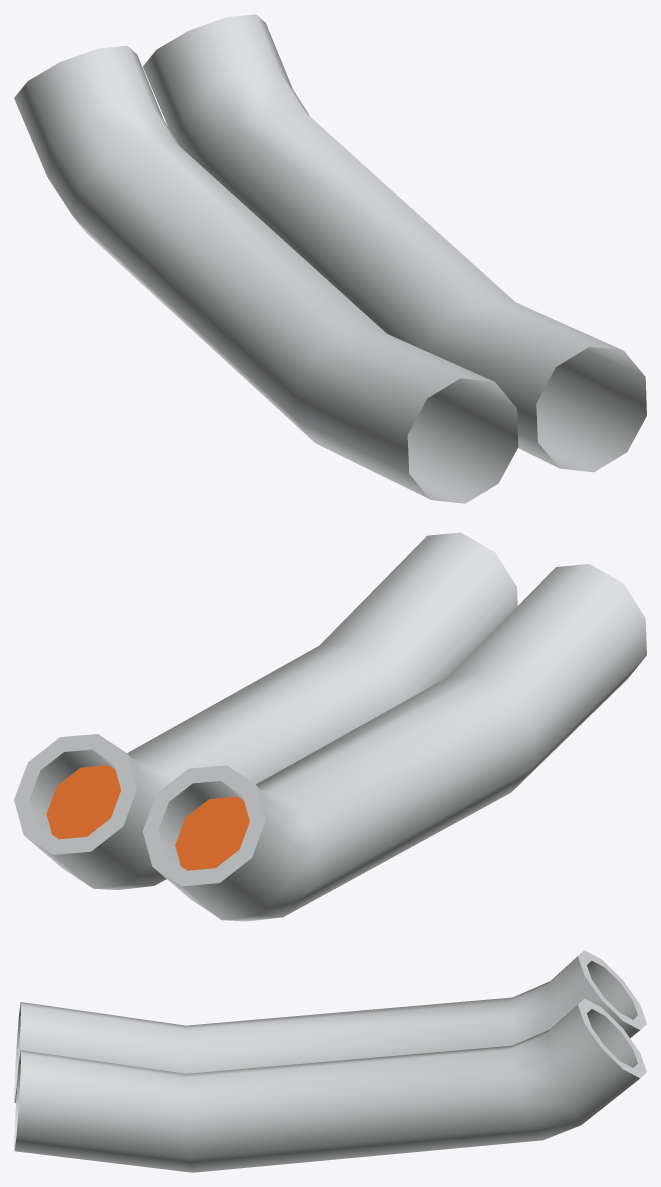
File: Car_09_Pipe_Simple.fbx
3 views of the same model, one above another, from view 1: azimuth 30°, elevation 25°; view 2: azimuth 150°, elevation 25°; view 3: azimuth 270°, elevation 25° (orthographic). The views are drawn at different scales.
Visible parts, largest first — view 1: Car_09_Pipe_Simple; view 2: Car_09_Pipe_Simple; view 3: Car_09_Pipe_Simple.
Part boxes in pixels (x1=…): Car_09_Pipe_Simple: x1=14, y1=14, x2=646, y2=503; Car_09_Pipe_Simple: x1=14, y1=532, x2=646, y2=921; Car_09_Pipe_Simple: x1=14, y1=950, x2=646, y2=1172.
Bounding box in the file's own units: 31.88 × 95.63 × 27.38.
